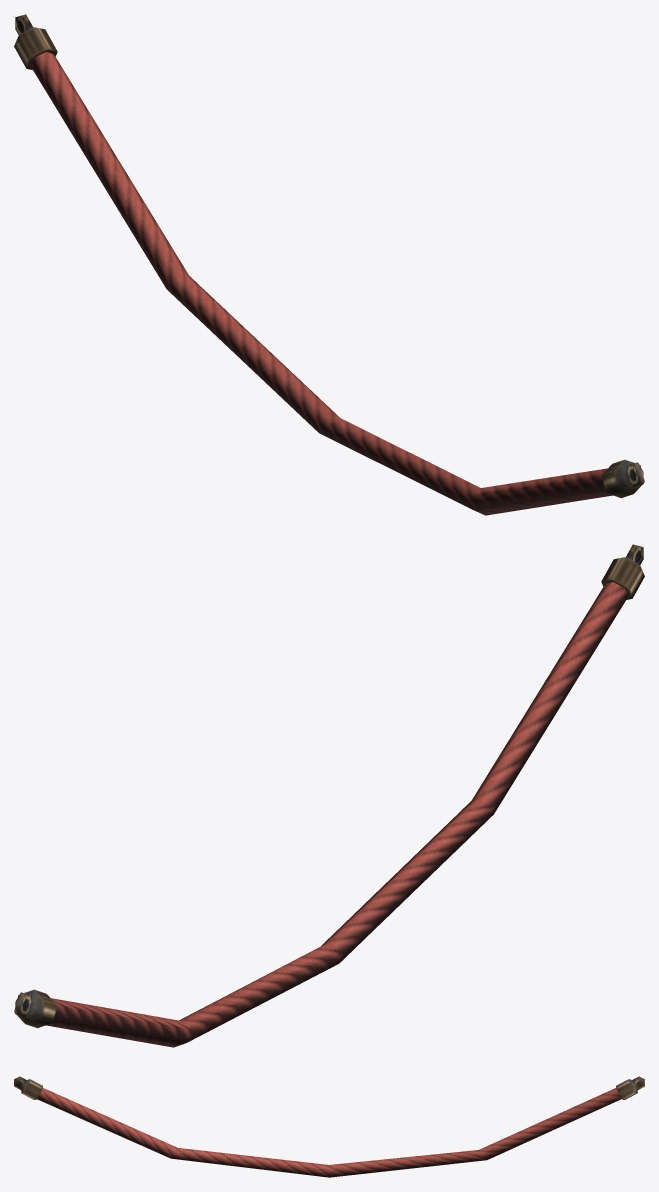
Rendered from Corde_03.fbx.
3 renders of one model, top to bottom at view 1: azimuth 30°, elevation 25°; view 2: azimuth 150°, elevation 25°; view 3: azimuth 270°, elevation 25°, orthographic. The views are drawn at different scales.
Visible parts, largest first — view 1: Corde_03; view 2: Corde_03; view 3: Corde_03.
Boxes of the visible parts, x1=… form: Corde_03: x1=14, y1=14, x2=644, y2=515; Corde_03: x1=14, y1=544, x2=644, y2=1047; Corde_03: x1=14, y1=1076, x2=644, y2=1177.
Size of the model in its own units: 0.0364 by 0.2586 by 1.47.
